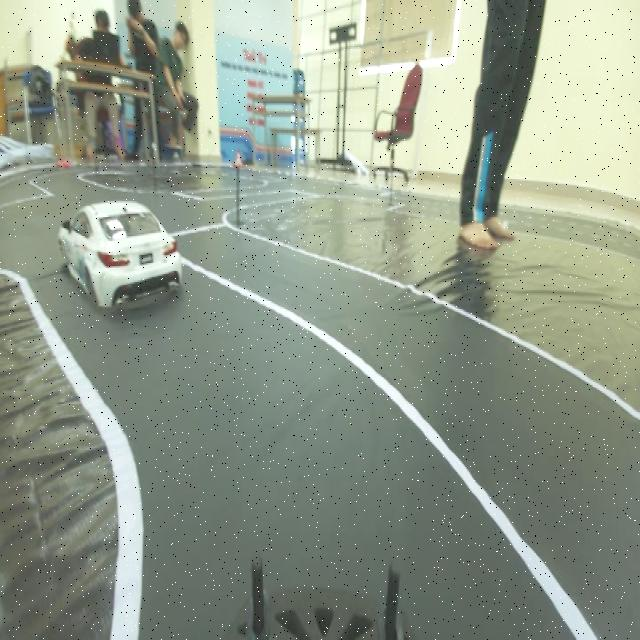car: (52, 196, 185, 311)
